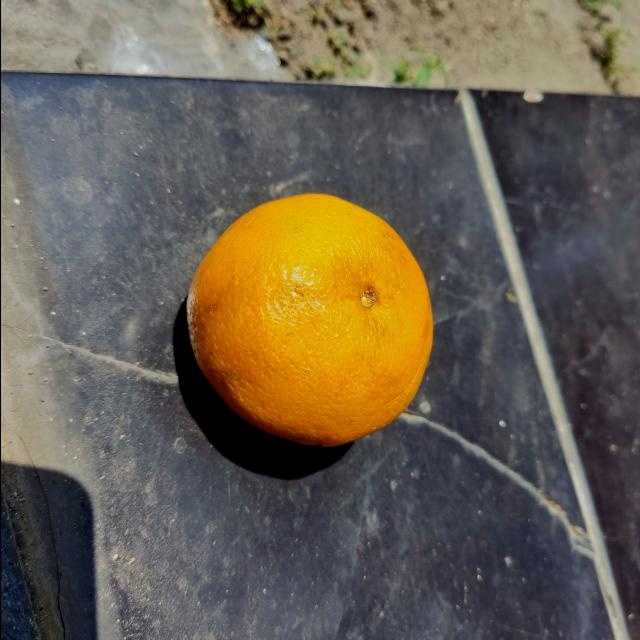agrume: (183, 191, 433, 449)
